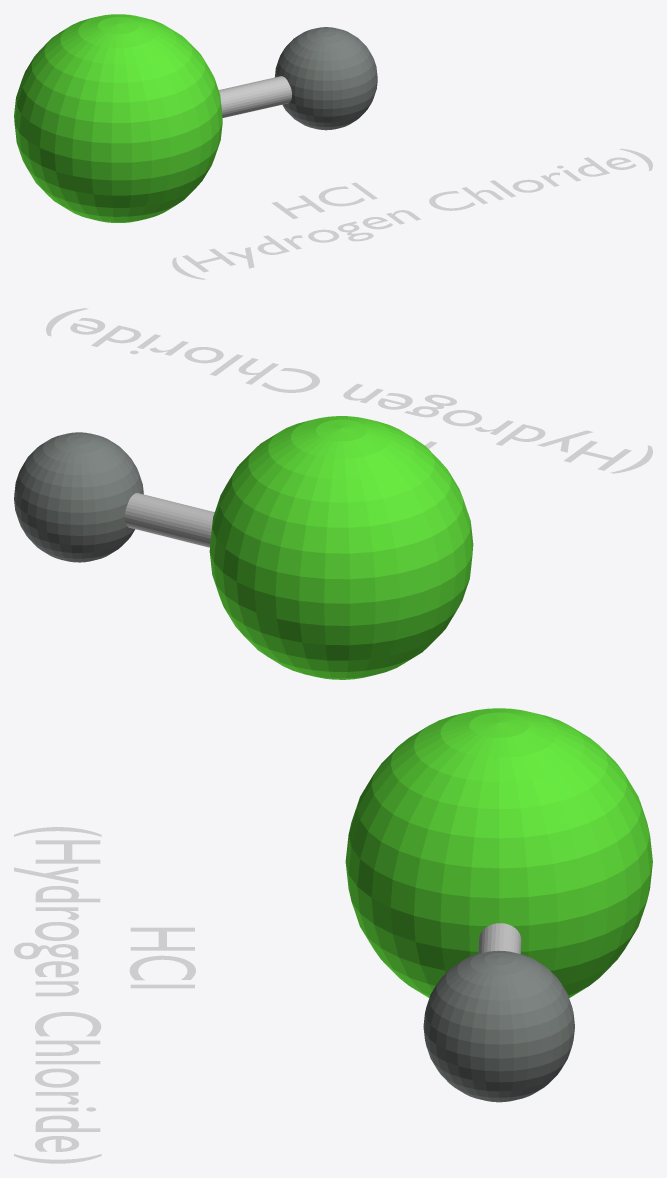
Rendered from Hydrogen Chloride.fbx.
3 renders of one model, top to bottom at view 1: azimuth 30°, elevation 25°; view 2: azimuth 150°, elevation 25°; view 3: azimuth 270°, elevation 25°, orthographic. The views are drawn at different scales.
Parts seen in each view (by area): view 1: Sphere, Sphere.002, Text, Cylinder; view 2: Sphere, Sphere.002, Text, Cylinder; view 3: Sphere, Sphere.002, Text, Cylinder.
Boxes of the visible parts, <box> form: Sphere: <box>14,14,222,222</box>; Sphere.002: <box>274,27,377,130</box>; Text: <box>172,148,652,279</box>; Cylinder: <box>218,76,291,117</box>; Sphere: <box>209,416,473,679</box>; Sphere.002: <box>14,432,143,562</box>; Text: <box>46,308,652,473</box>; Cylinder: <box>125,493,214,547</box>; Sphere: <box>345,708,652,997</box>; Sphere.002: <box>423,950,574,1102</box>; Text: <box>14,827,195,1163</box>; Cylinder: <box>478,923,521,953</box>.
Bounding box in the file's own units: 841 × 324 × 674.
